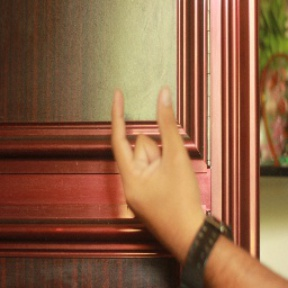U: (100, 82, 201, 212)
